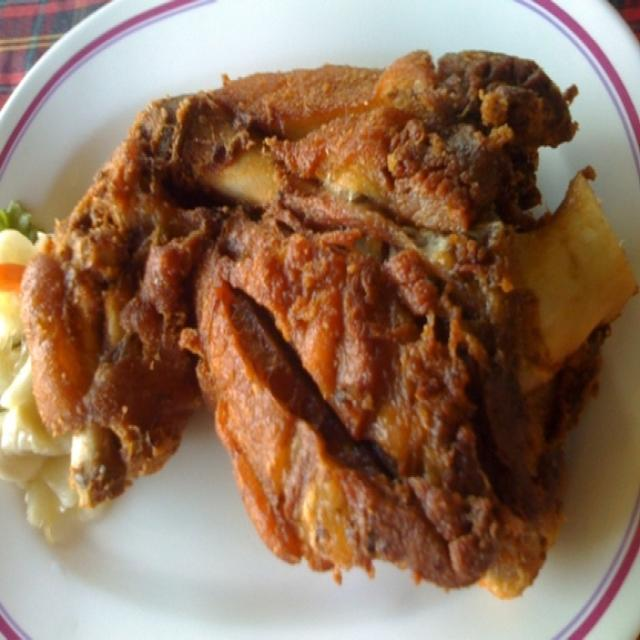猪肉菜式: (20, 27, 603, 620)
